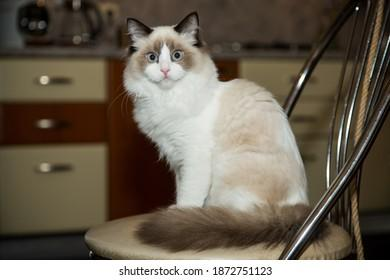ragdoll: (121, 11, 215, 98)
